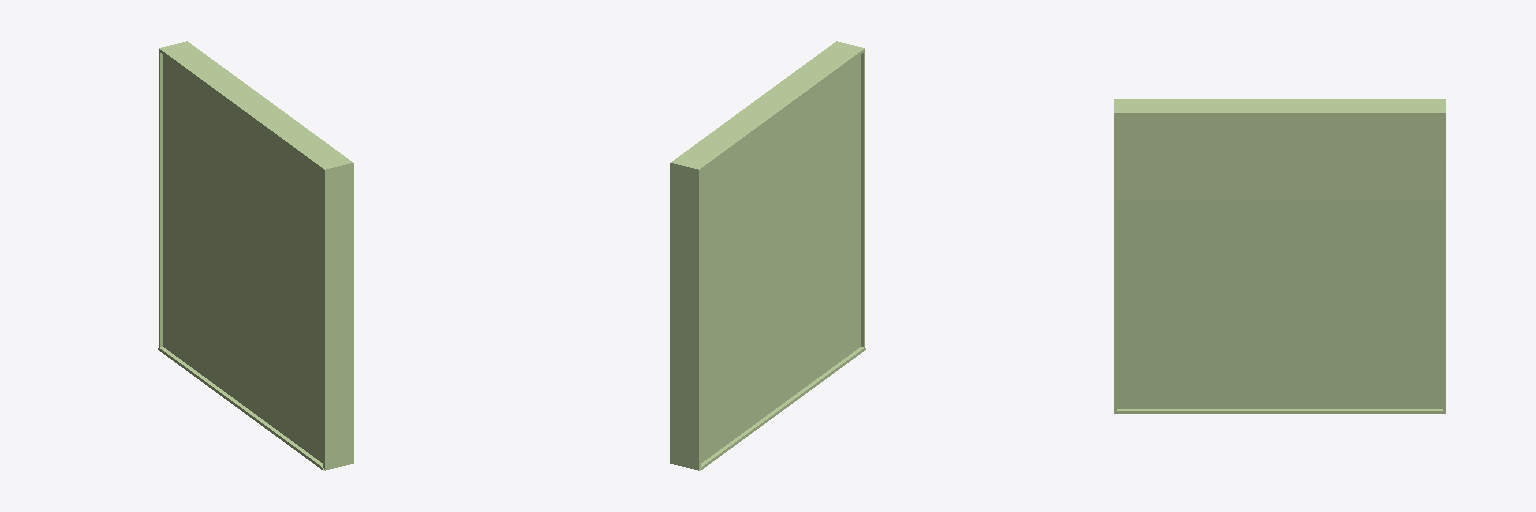
Rendered from cafeWall2.obj.
3 renders of one model, left to right at view 1: azimuth 30°, elevation 25°; view 2: azimuth 150°, elevation 25°; view 3: azimuth 270°, elevation 25°, orthographic.
Visible parts, largest first — view 1: CreamWall_Cube.027; view 2: CreamWall_Cube.027; view 3: CreamWall_Cube.027.
Part boxes in pixels (bbox=[...]): CreamWall_Cube.027: bbox=[158, 41, 353, 470]; CreamWall_Cube.027: bbox=[670, 41, 865, 470]; CreamWall_Cube.027: bbox=[1114, 99, 1445, 413].
Size of the model in its own units: 0.1073 by 1 by 1.